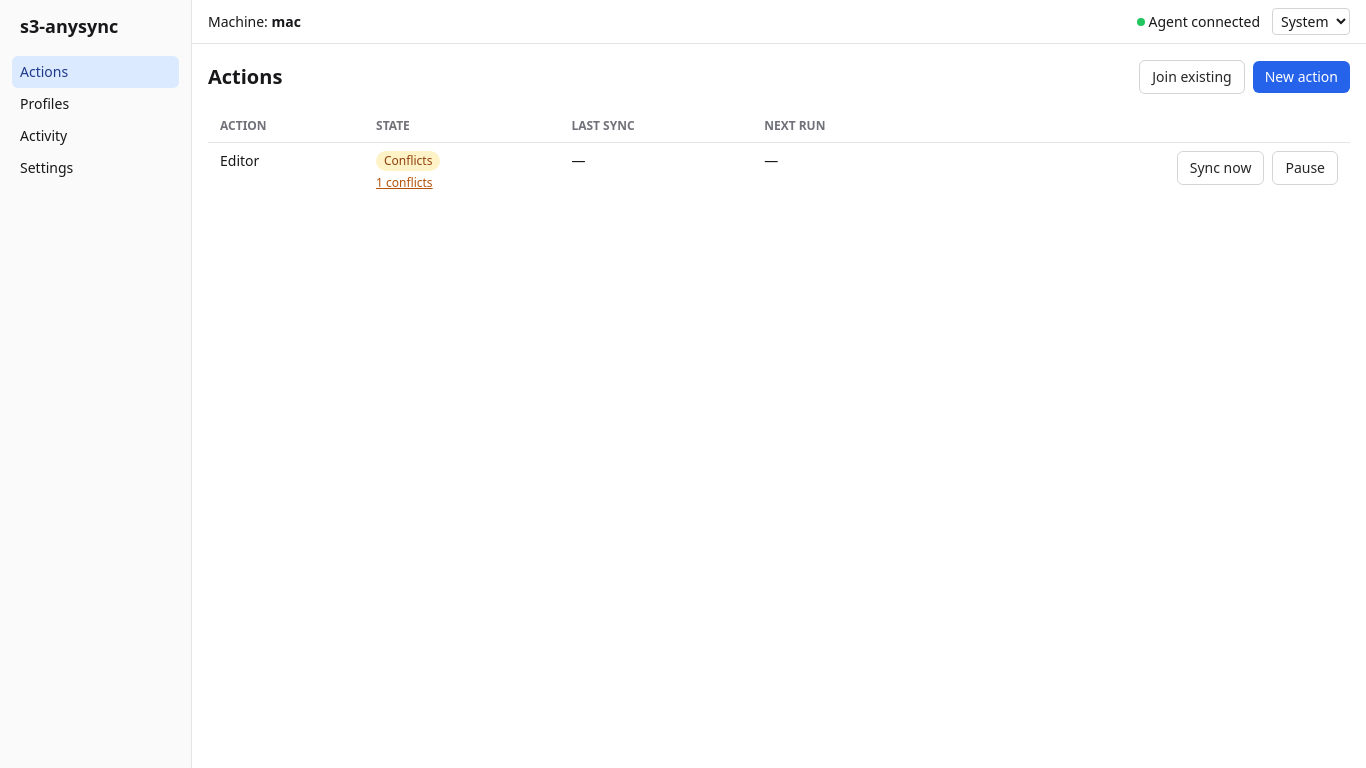
it: a new conflict outcome reloads the list
The width and height of the screenshot is (1366, 768).
Click the button "1 conflicts" at (404, 183), box [376,175,433,191]
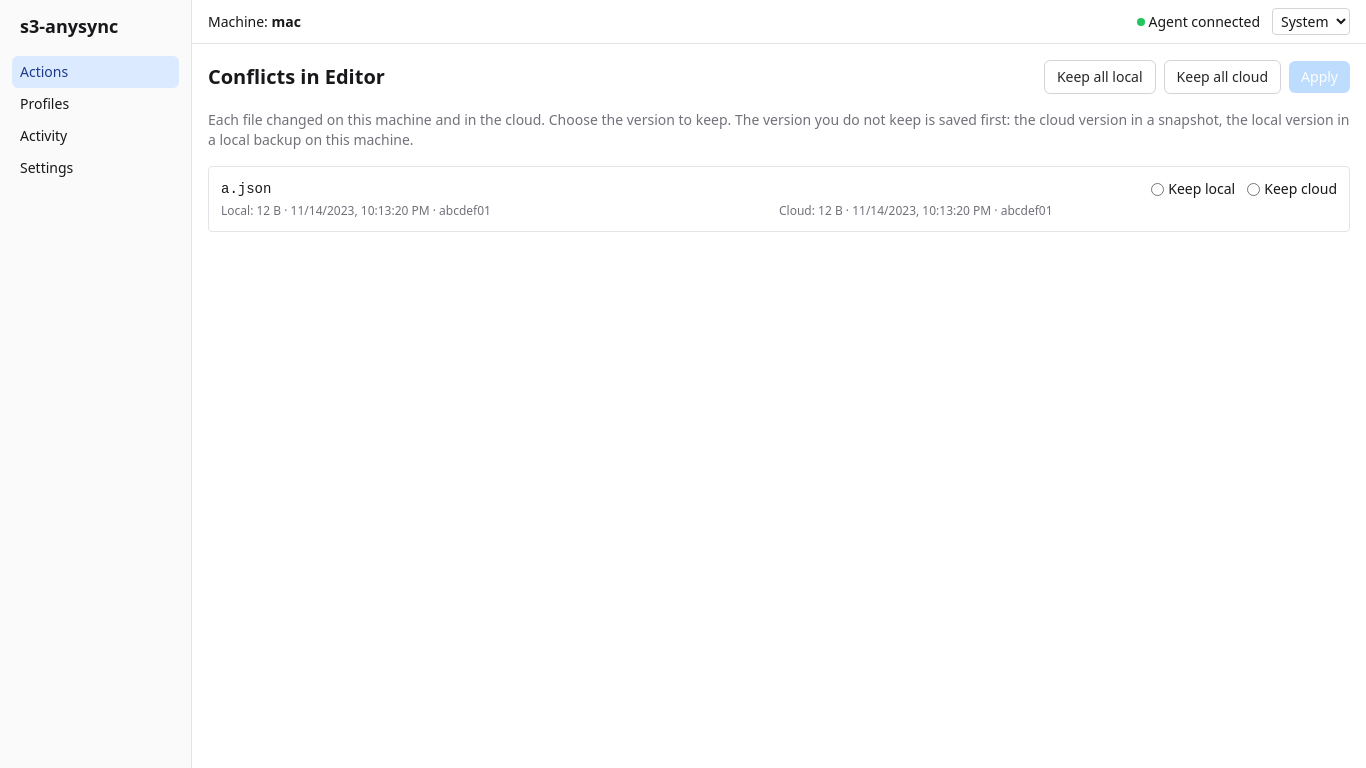
Expected: the heading "Conflicts in Editor" is shown, [208,63,385,91]
Click the radio button with aria-label "Keep local a.json" at (1158, 189), box [1151,182,1164,196]
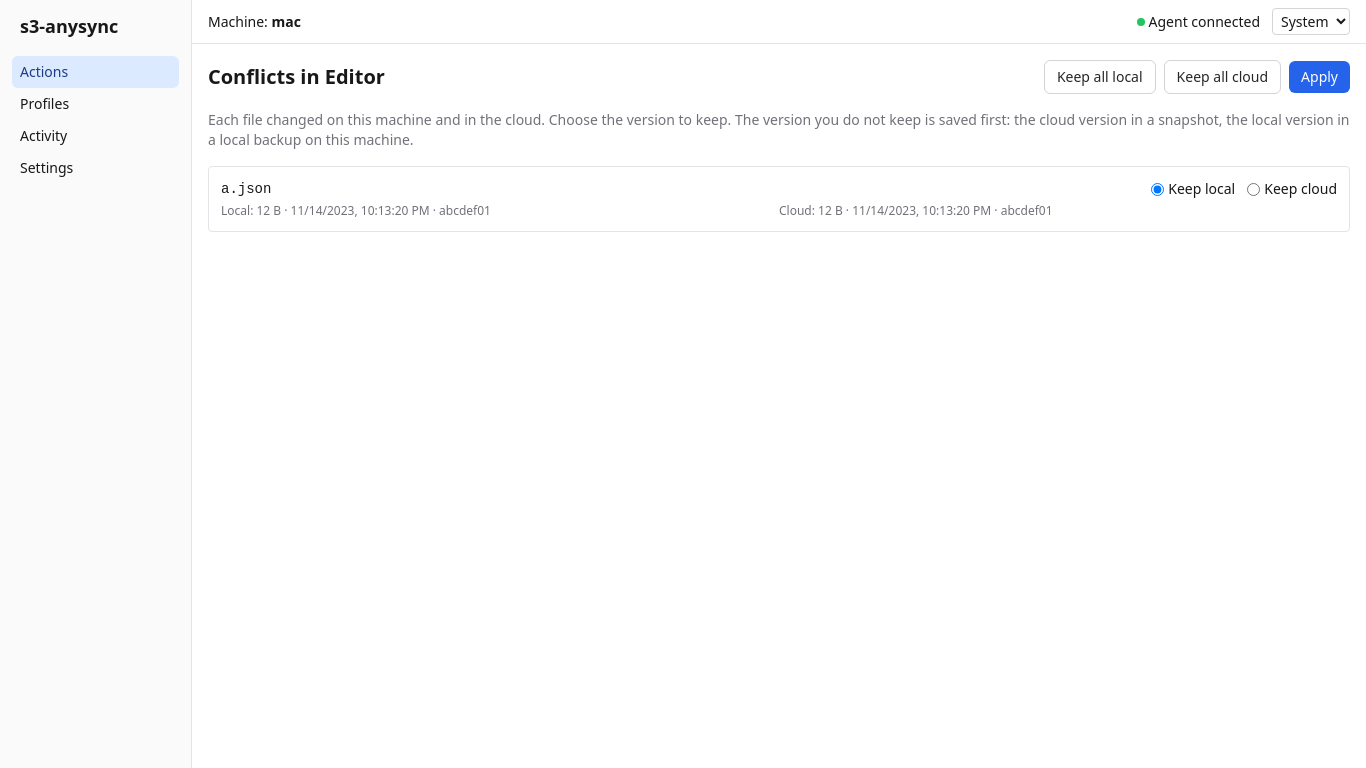
Click the button "Apply" at (1320, 77), box [1289,61,1350,93]
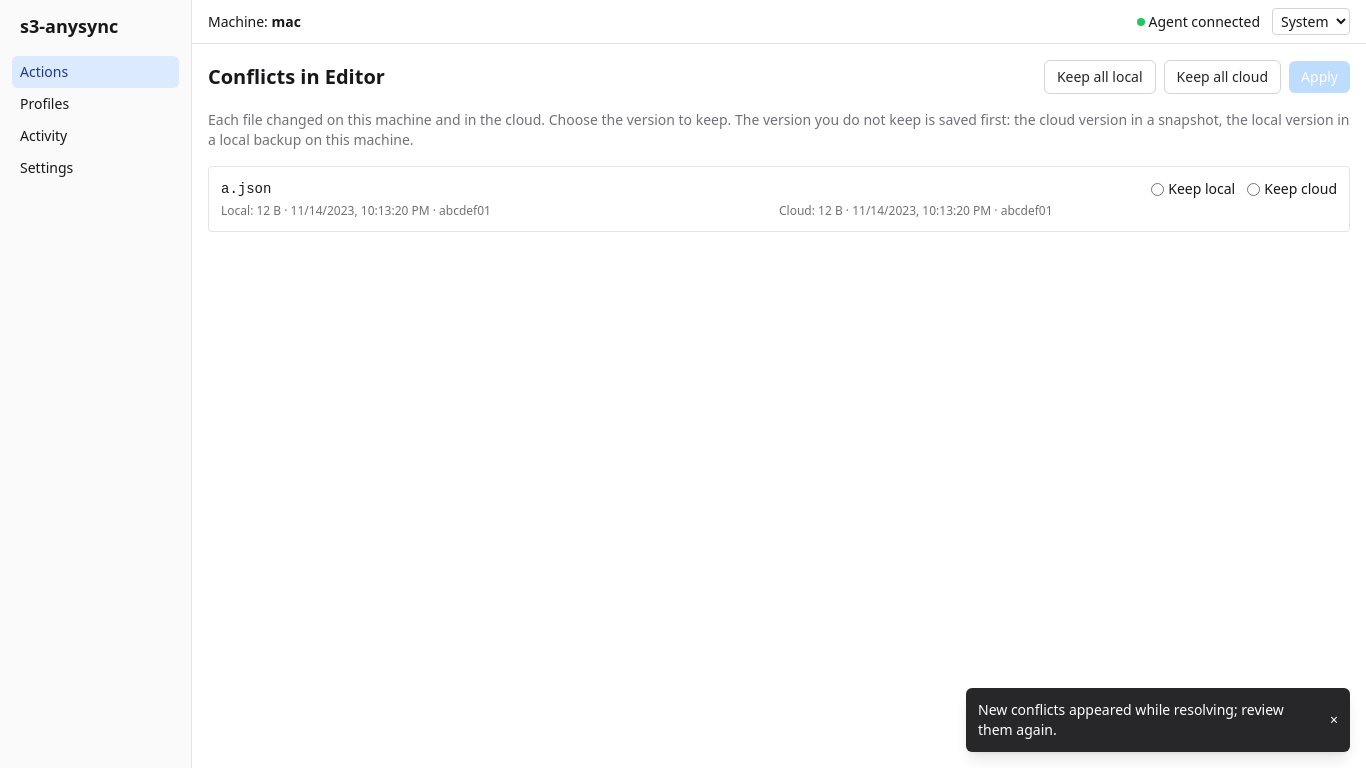
Expected: the text "New conflicts appeared while resolving; review them again." is shown, [978,700,1322,740]
